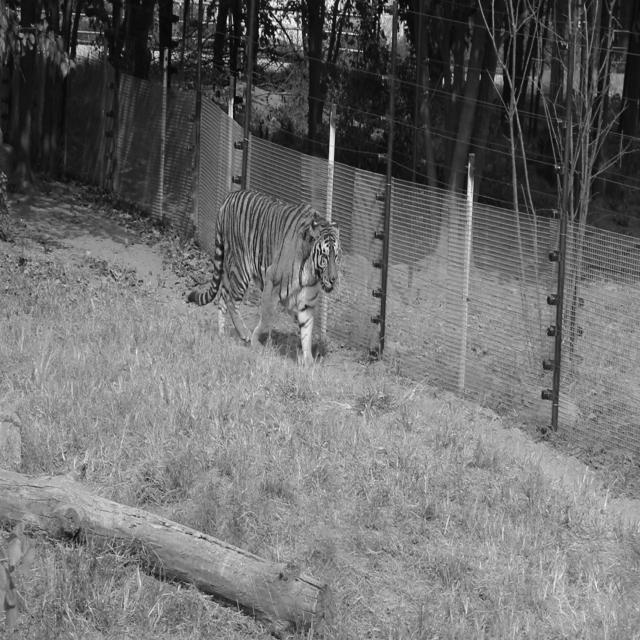Tiger: (187, 187, 342, 372)
